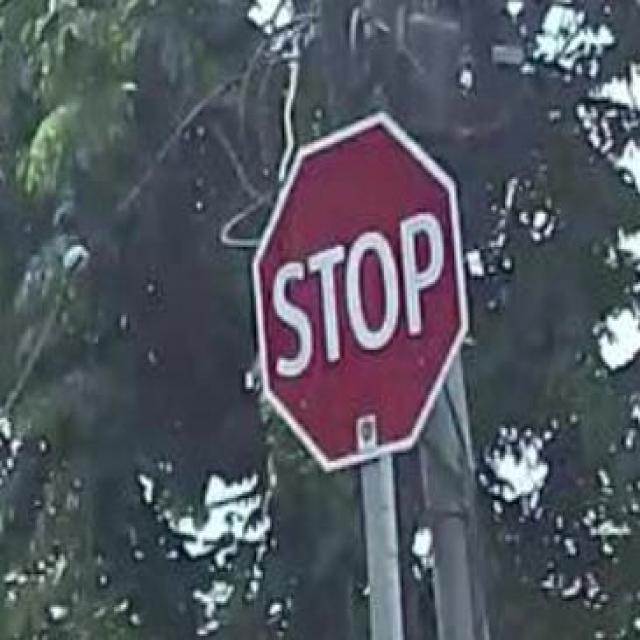traffic sign: (260, 127, 460, 457)
